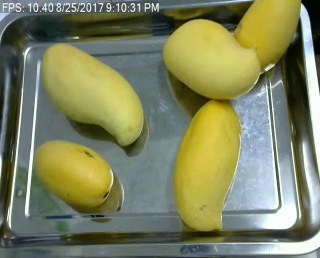Mango: (43, 40, 145, 144), (175, 97, 243, 233), (162, 16, 259, 100), (230, 0, 302, 79), (31, 142, 114, 206)
